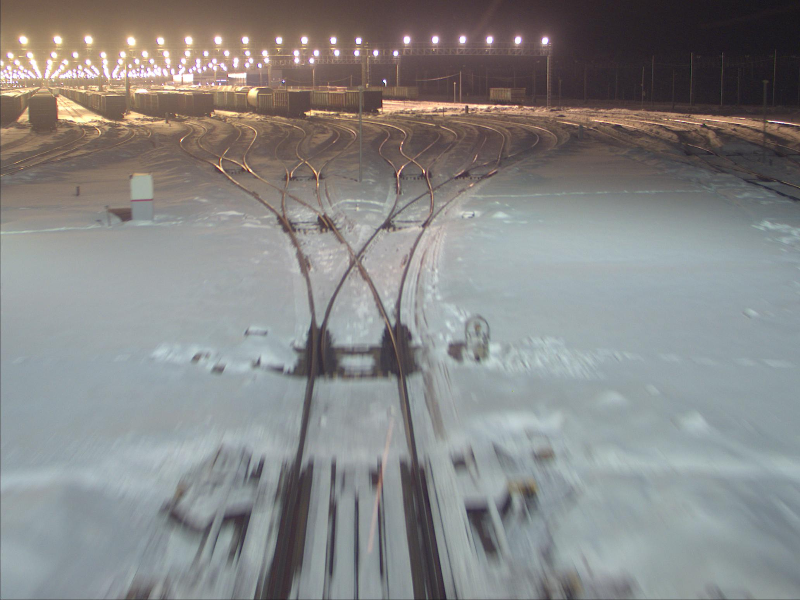left: (309, 240, 416, 379), (286, 155, 323, 182)
right: (274, 188, 338, 231), (383, 186, 438, 228), (210, 153, 253, 173), (398, 150, 427, 175)
